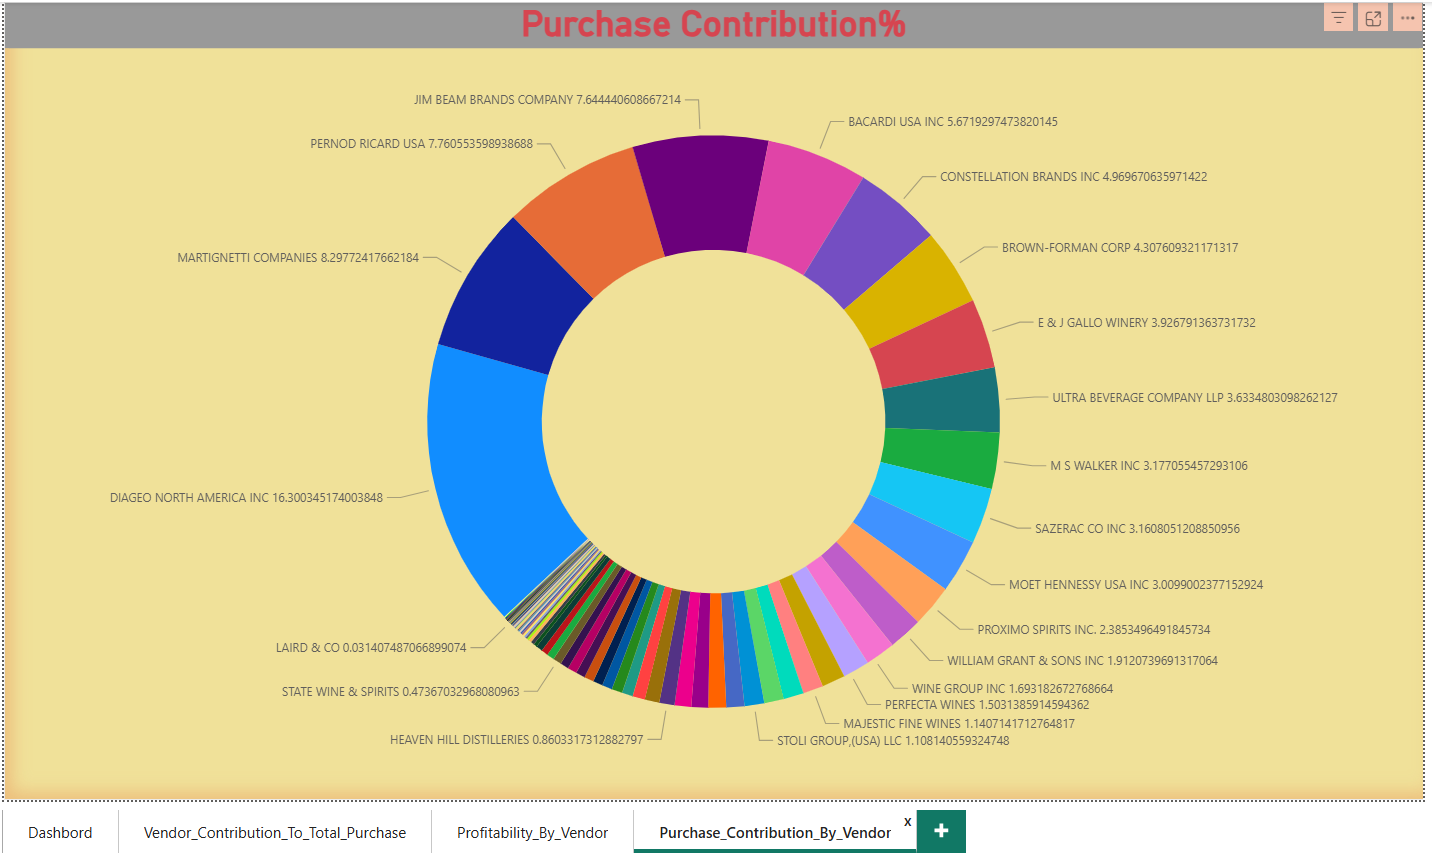

The page's visual inventory and layout, read from the dashboard file:
{"tool":"powerbi","page":{"name":"Purchase_Contribution_By_Vendor","canvas":[1280,720],"ordinal":3},"visuals":[{"type":"donutChart","title":" Purchase Contribution% ","fields":{"Category":["PurchaseContribution.VendorName"],"Y":["Sum(PurchaseContribution.PurchaseContribution%)"]},"box":[0,0,1280,720.3],"z":0}]}

Visuals, with their boxes on the page's 1280x720 design canvas (x1, y1, x2, y2). These are canvas units, not pixel positions in the 1432x853 screenshot, which may show the page scaled, cropped or inside an application window:
" Purchase Contribution% " donutChart: locate(0, 0, 1280, 720)
